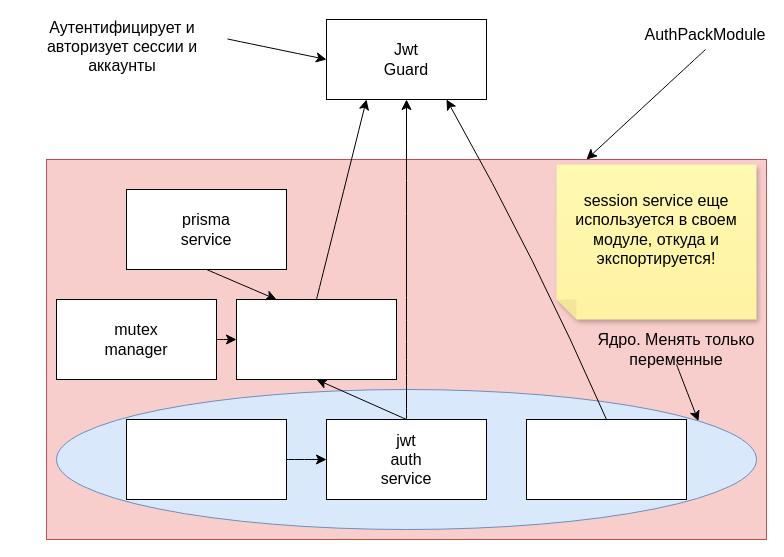
Image size: 784x557. Some labels were removed from this diagram. Each missing label, with the centre of its shape:
"cookie settings" belongs at (606,459).
"jwt auth settings" belongs at (206,459).
"session service" belongs at (316,339).
